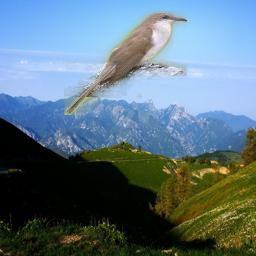Cuckoo: (64, 11, 187, 115)
